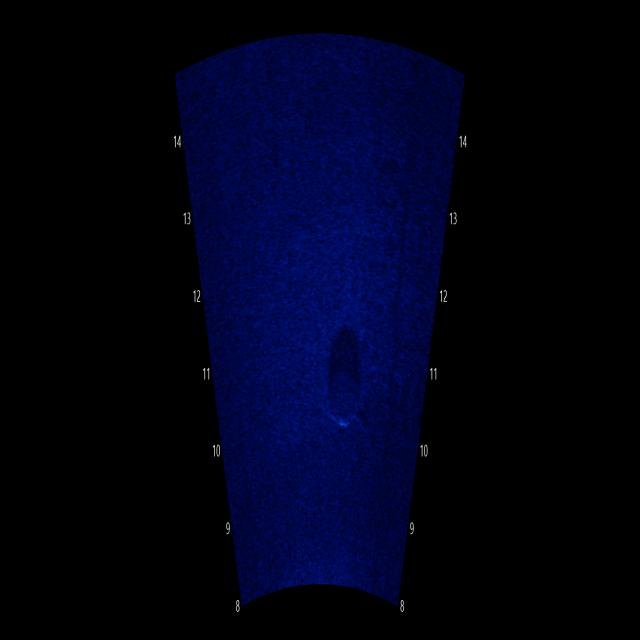circle: (315, 330, 370, 448)
